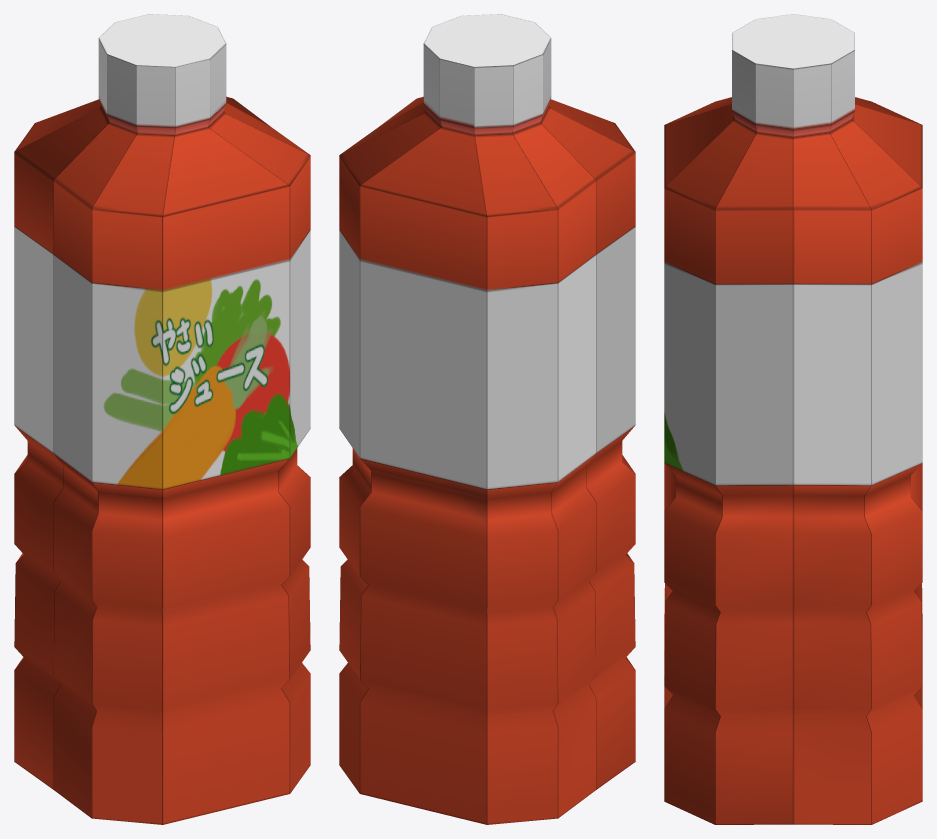
File: drink_F1.fbx
3 views of the same model, side by side, from view 1: azimuth 30°, elevation 25°; view 2: azimuth 150°, elevation 25°; view 3: azimuth 270°, elevation 25° (orthographic).
Parts seen in each view (by area): view 1: drink_F_1; view 2: drink_F_1; view 3: drink_F_1.
Boxes of the visible parts, left/top/right/bottom form: drink_F_1: left=14, top=14, right=310, bottom=824; drink_F_1: left=339, top=14, right=635, bottom=824; drink_F_1: left=664, top=14, right=922, bottom=824.
Bounding box in the file's own units: 28.01 × 88.37 × 28.37.
1 material, 1 textured.
